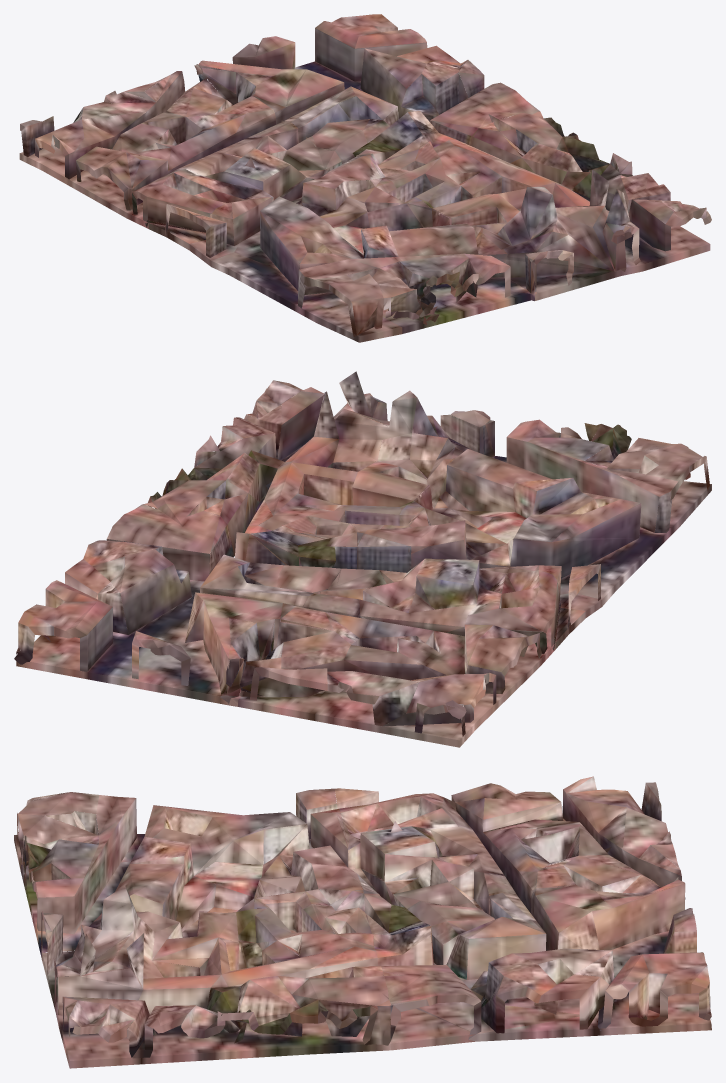
The picture shows the model from 3 angles, top to bottom: view 1: azimuth 30°, elevation 25°; view 2: azimuth 150°, elevation 25°; view 3: azimuth 270°, elevation 25°; orthographic projection. The views are drawn at different scales.
Visible parts, largest first — view 1: Mesh_0; view 2: Mesh_0; view 3: Mesh_0.
Part boxes in pixels (x1,y1,x2,y2): Mesh_0: [19, 14, 711, 342]; Mesh_0: [14, 371, 711, 747]; Mesh_0: [14, 776, 711, 1068].
Bounding box in the file's own units: 271 × 49.81 × 330.
Materials: 2 (2 with a texture image).
